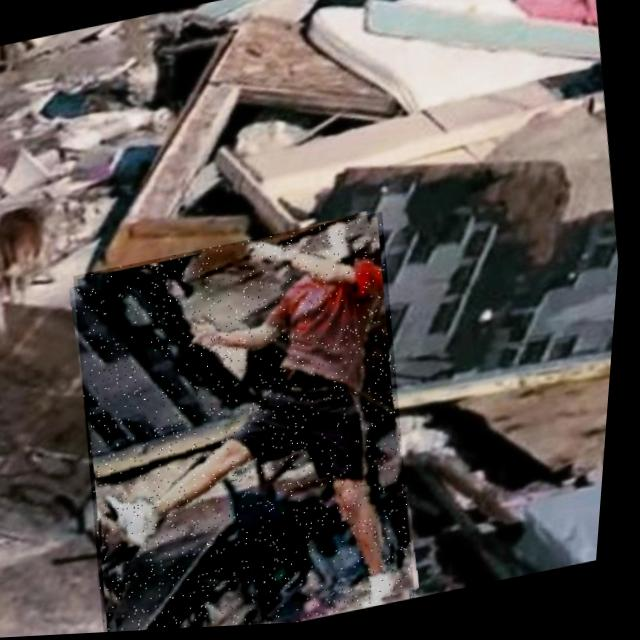Person in Rubble: (57, 214, 447, 636)
